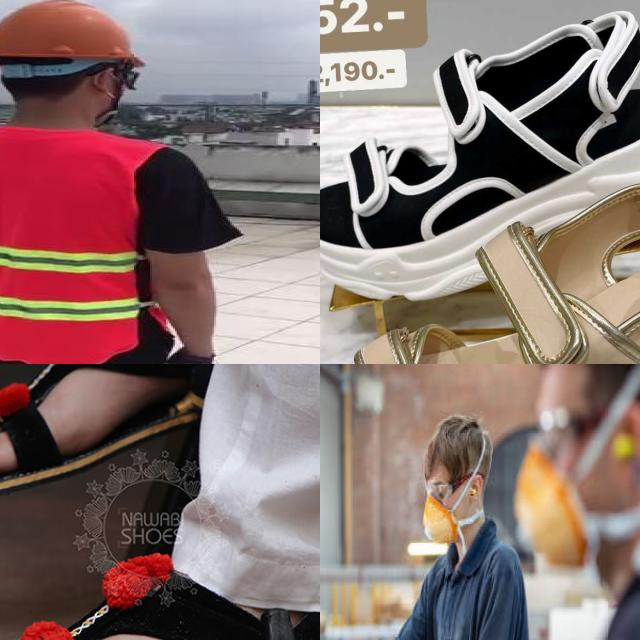No_Ear-Protection: (468, 474, 484, 502)
Sandals: (320, 0, 640, 281), (320, 149, 640, 364), (0, 558, 320, 640)
face_mask: (516, 446, 586, 565), (423, 496, 458, 543)
hand_glove: (536, 406, 603, 458), (426, 475, 471, 503), (160, 349, 215, 364)
head_helmet: (0, 0, 141, 61)
head_nohelmet: (424, 414, 493, 481)
person: (0, 0, 263, 364)
vest: (0, 129, 164, 364)
